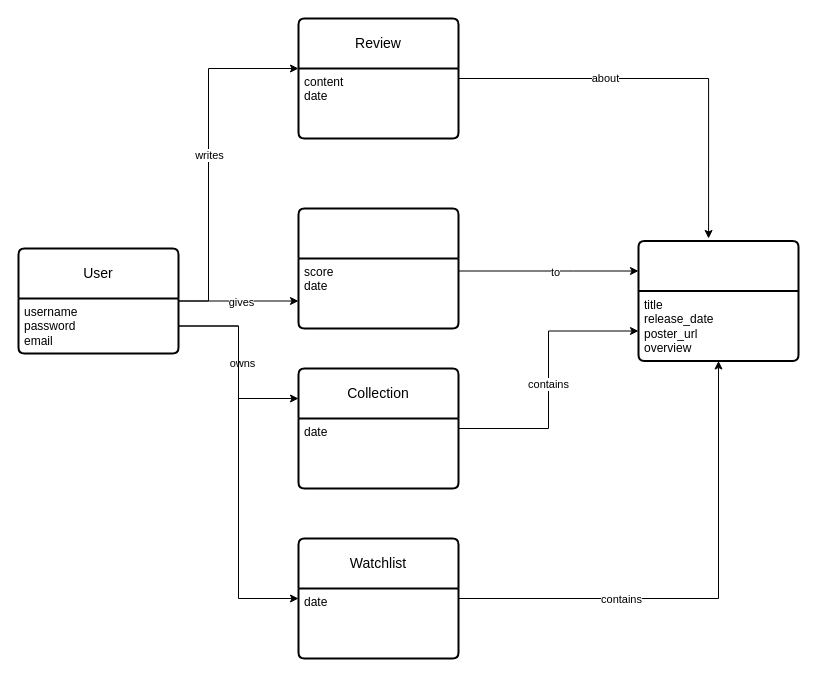
Image size: 816x676. Some labels were removed from this diagram. The shapes that lost their labels are listed below. From the top down, each one's box as (x1, y1, x2, y2) in pixels, then its label:
(297, 207, 459, 329): Rating
(637, 240, 799, 362): Movie
